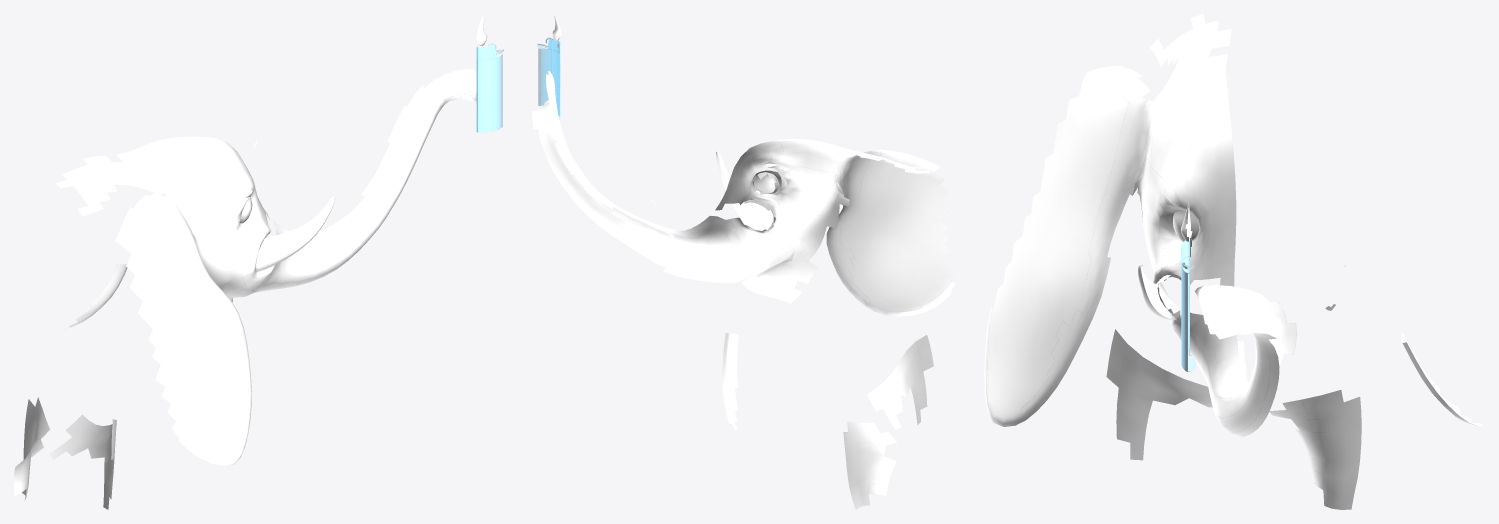
File: flame.glb
3 views of the same model, side by side, from view 1: azimuth 30°, elevation 25°; view 2: azimuth 150°, elevation 25°; view 3: azimuth 270°, elevation 25° (orthographic). The views are drawn at different scales.
Visible parts, largest first — view 1: export1; view 2: export1; view 3: export1.
Part boxes in pixels (box(x1,y1,x2,y2)): export1: box(14, 15, 503, 509); export1: box(532, 15, 955, 509); export1: box(984, 14, 1483, 509).
Size of the model in its own units: 0.8147 by 0.7343 by 0.5758.
